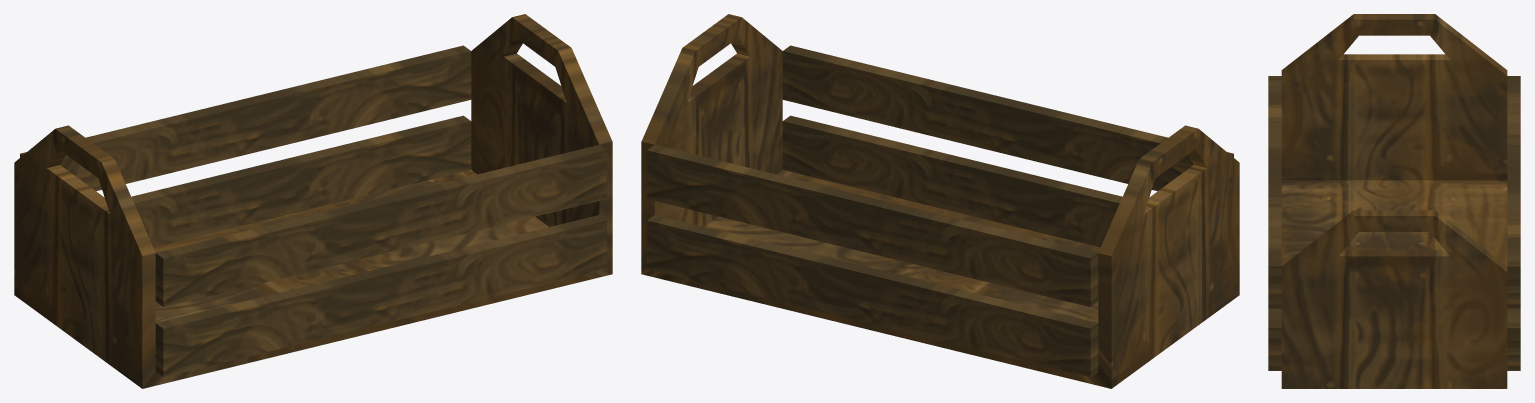
3 renders of one model, left to right at view 1: azimuth 30°, elevation 25°; view 2: azimuth 150°, elevation 25°; view 3: azimuth 270°, elevation 25°, orthographic. The views are drawn at different scales.
Visible parts, largest first — view 1: Box_02; view 2: Box_02; view 3: Box_02.
Part boxes in pixels (box(x1,y1,x2,y2)): Box_02: box(14, 14, 612, 388); Box_02: box(641, 14, 1239, 388); Box_02: box(1268, 14, 1520, 388).
Size of the model in its own units: 212 by 84.7 by 112.
